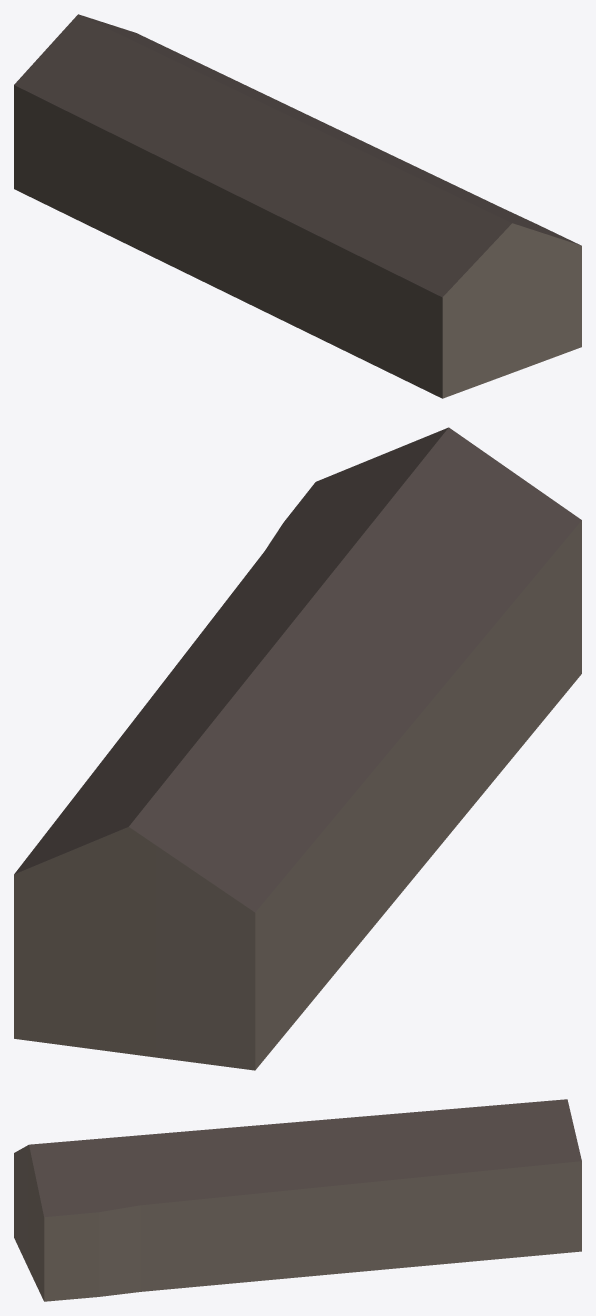
3 views of the same model, one above another, from view 1: azimuth 30°, elevation 25°; view 2: azimuth 150°, elevation 25°; view 3: azimuth 270°, elevation 25° (orthographic). The views are drawn at different scales.
Parts seen in each view (by area): view 1: HP-w553893868; view 2: HP-w553893868; view 3: HP-w553893868.
Boxes of the visible parts, x1,y1,x2,y2 form: HP-w553893868: [14, 14, 581, 398]; HP-w553893868: [14, 427, 581, 1070]; HP-w553893868: [14, 1099, 581, 1301].
Size of the model in its own units: 16.37 by 8.87 by 36.53.
